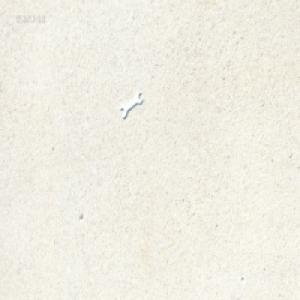Wrench: (120, 89, 142, 118)
